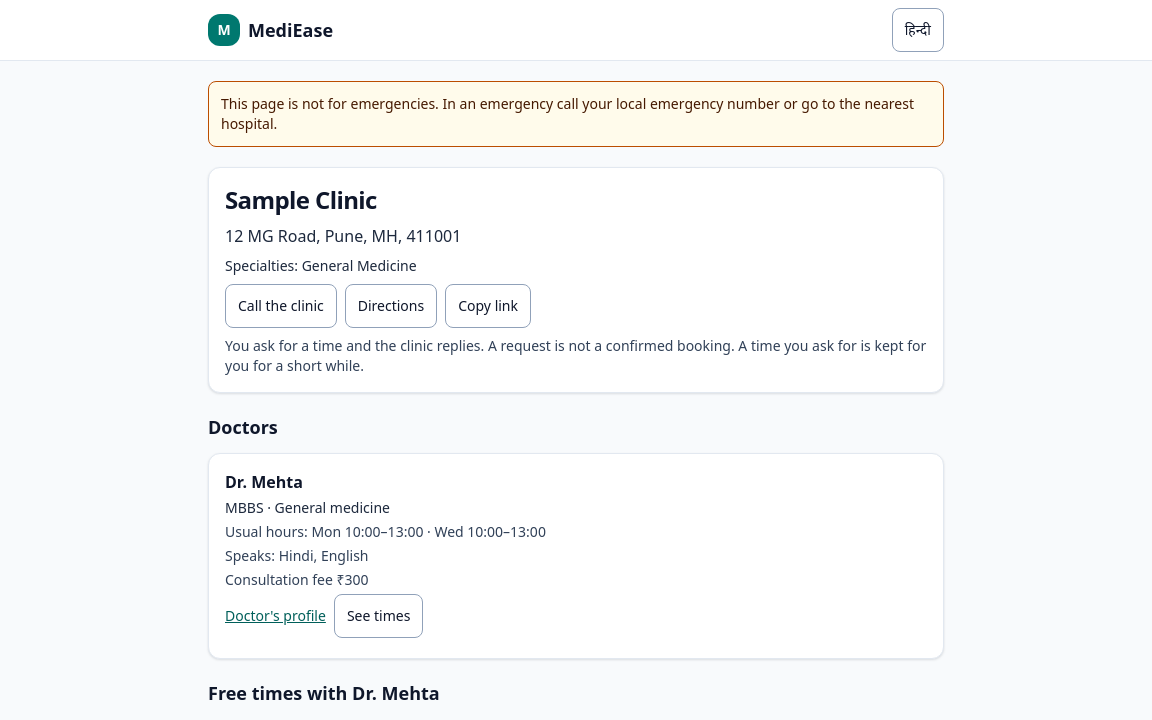
Test: the public clinic page (M6b-P4, FR-PUB-01, 04) › R7: a chosen doctor's times link to the request form with the exact slot
The width and height of the screenshot is (1152, 720).
Click the button "See times" at (379, 616), box [334,594,423,638]
(page scrolled)
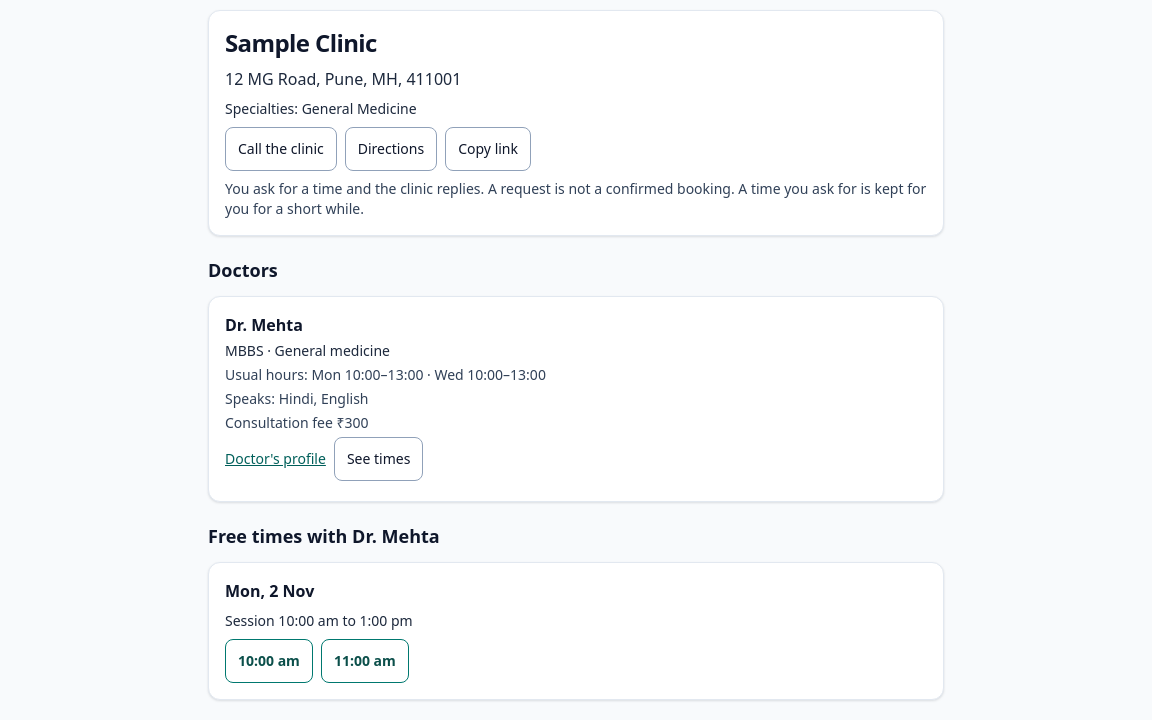
Now the heading "Mon, 2 Nov" is shown, box [225,580,314,602]
